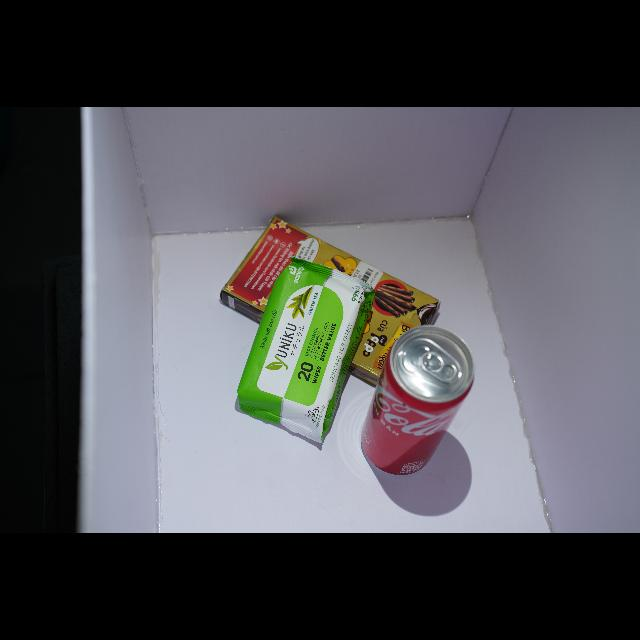banh_toppo_socola: (224, 217, 439, 384)
coca_cola: (361, 326, 474, 476)
khan_giay: (238, 257, 374, 443)
